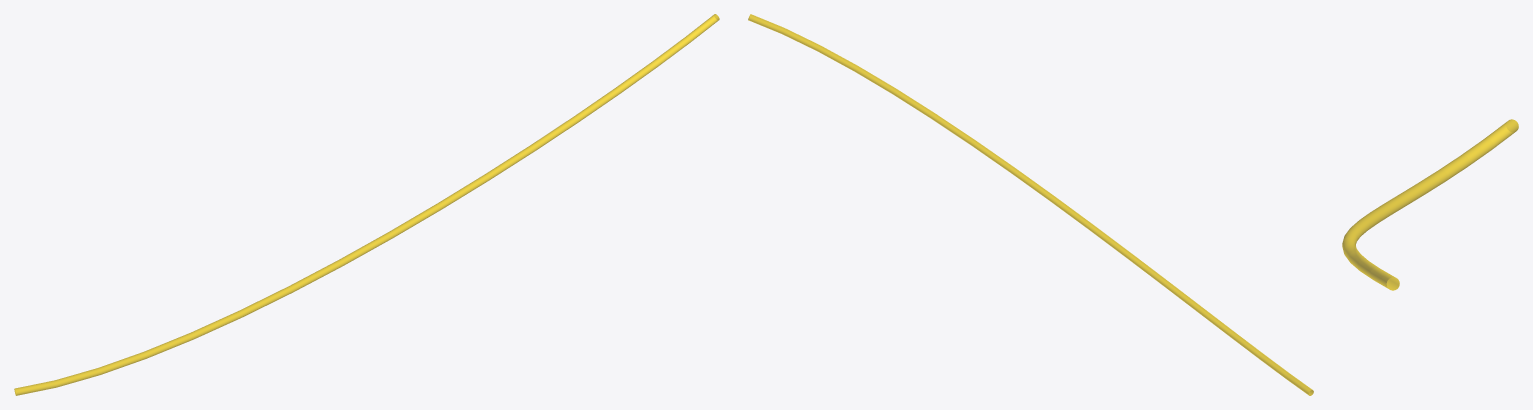
The model's file is Event_17758602_track_64.fbx.
3 views of the same model, side by side, from view 1: azimuth 30°, elevation 25°; view 2: azimuth 150°, elevation 25°; view 3: azimuth 270°, elevation 25° (orthographic). The views are drawn at different scales.
Parts seen in each view (by area): view 1: Model; view 2: Model; view 3: Model.
Part boxes in pixels (box(x1,y1,x2,y2)): Model: box(14, 14, 719, 395); Model: box(748, 14, 1313, 395); Model: box(1342, 119, 1518, 290).
Size of the model in its own units: 4.06 by 1.41 by 0.5232.
